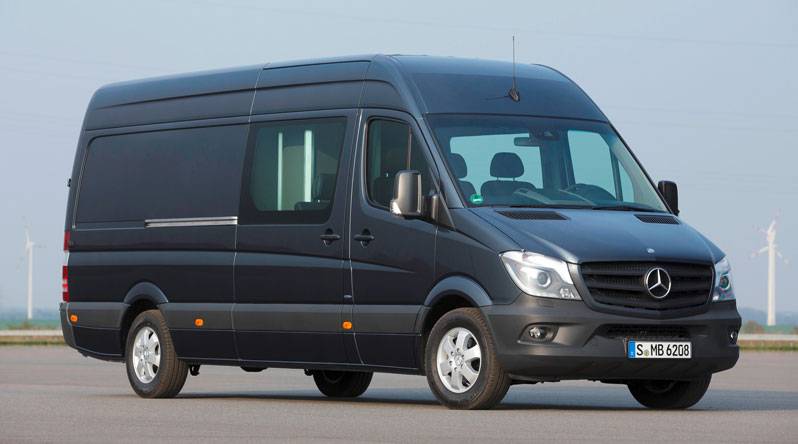van: (59, 53, 743, 410)
